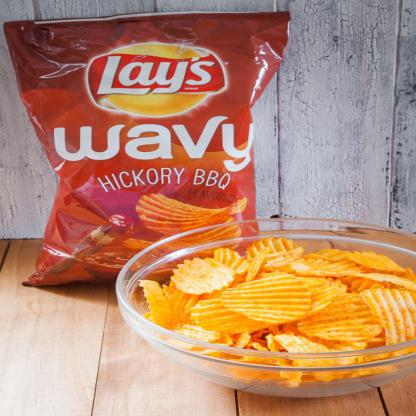potatochip: (0, 3, 306, 285)
